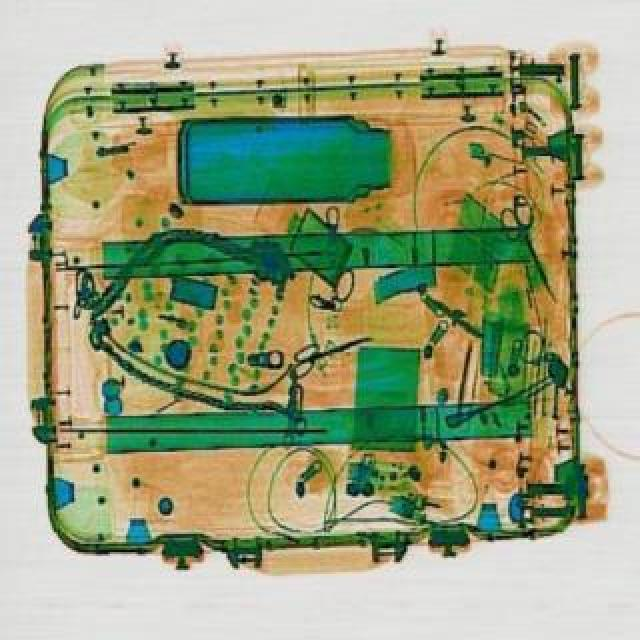pliers: (484, 188, 572, 308), (282, 322, 378, 378)
